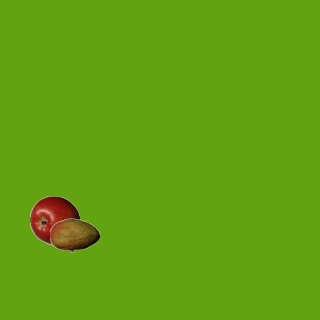Apple Braeburn: (29, 195, 79, 245)
Papaya: (49, 210, 99, 260)
